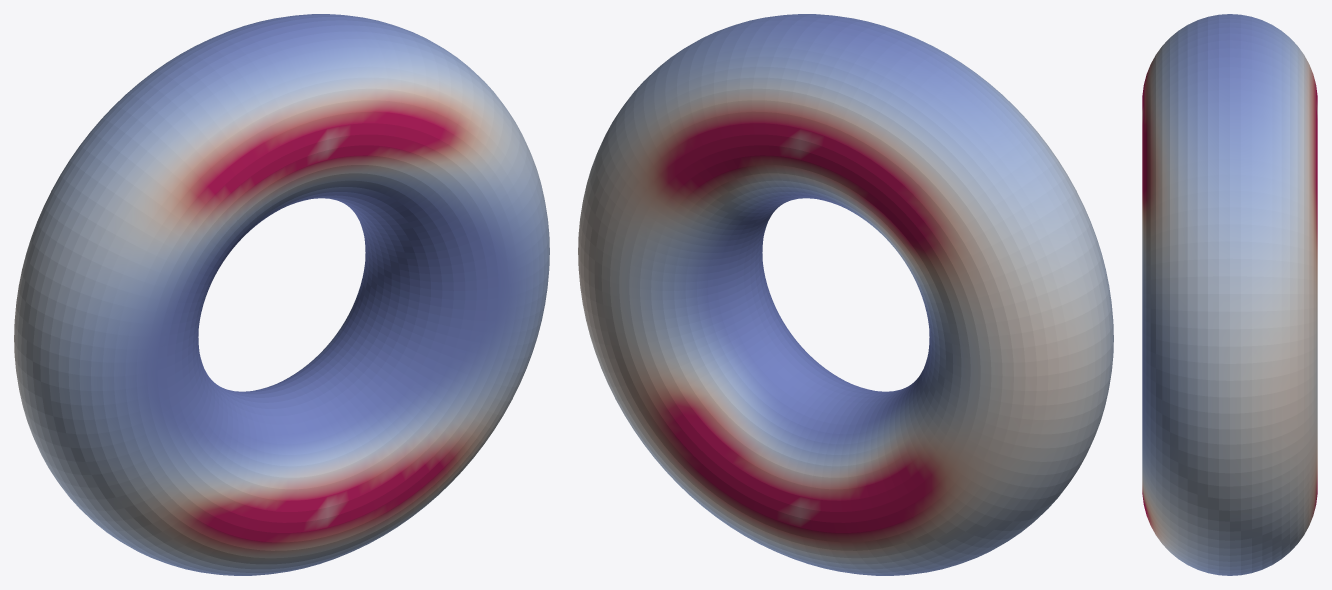
The picture shows the model from 3 angles, left to right: view 1: azimuth 30°, elevation 25°; view 2: azimuth 150°, elevation 25°; view 3: azimuth 270°, elevation 25°; orthographic projection. The views are drawn at different scales.
Parts seen in each view (by area): view 1: world; view 2: world; view 3: world.
Boxes of the visible parts, x1,y1,x2,y2 form: world: (14,14,549,575); world: (578,14,1113,575); world: (1142,14,1317,575).
Bounding box in the file's own units: 17.78 × 17.78 × 5.54.
